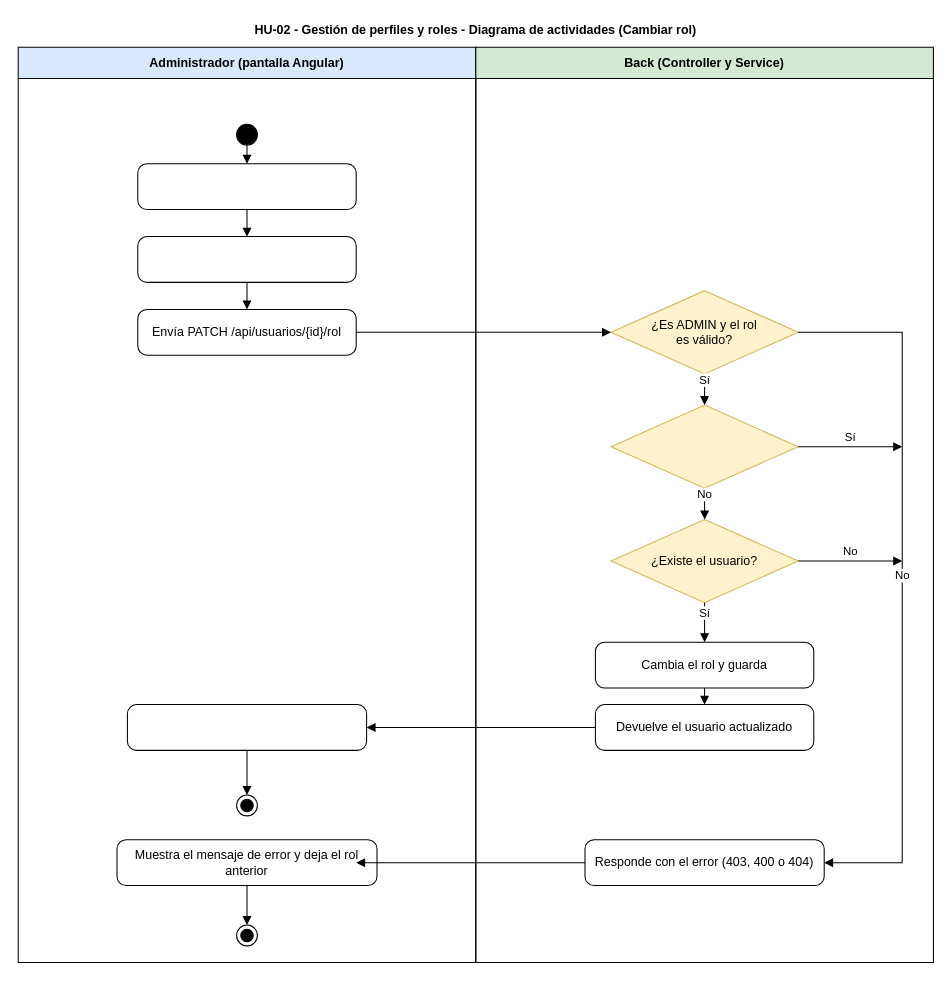
The diagram is 952 pixels wide and 981 high, and some of its shapes have lost their labels. Each missing label, with the box of its shape:
Abre la pantalla Usuarios y ve la lista: (137, 163, 356, 210)
Actualiza la fila y muestra el mensaje de confirmación: (126, 704, 367, 750)
Elige un nuevo rol en la fila de otro usuario: (137, 236, 356, 282)
¿Es el propio administrador?: (610, 404, 798, 488)
